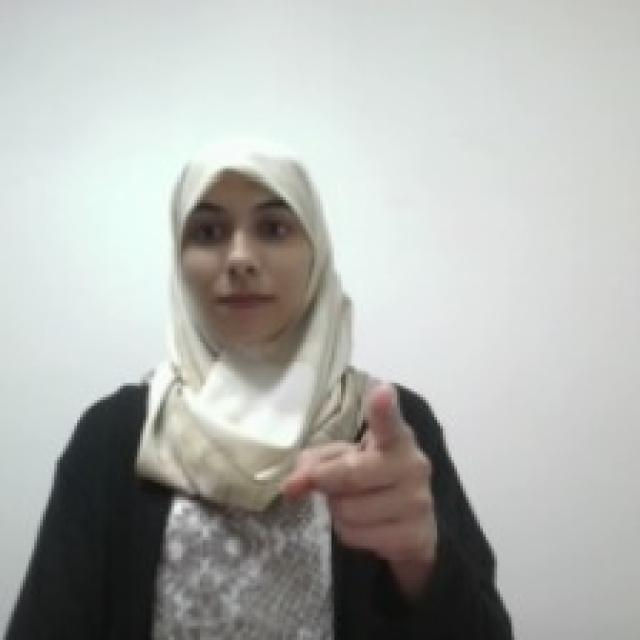you: (274, 376, 441, 563)
